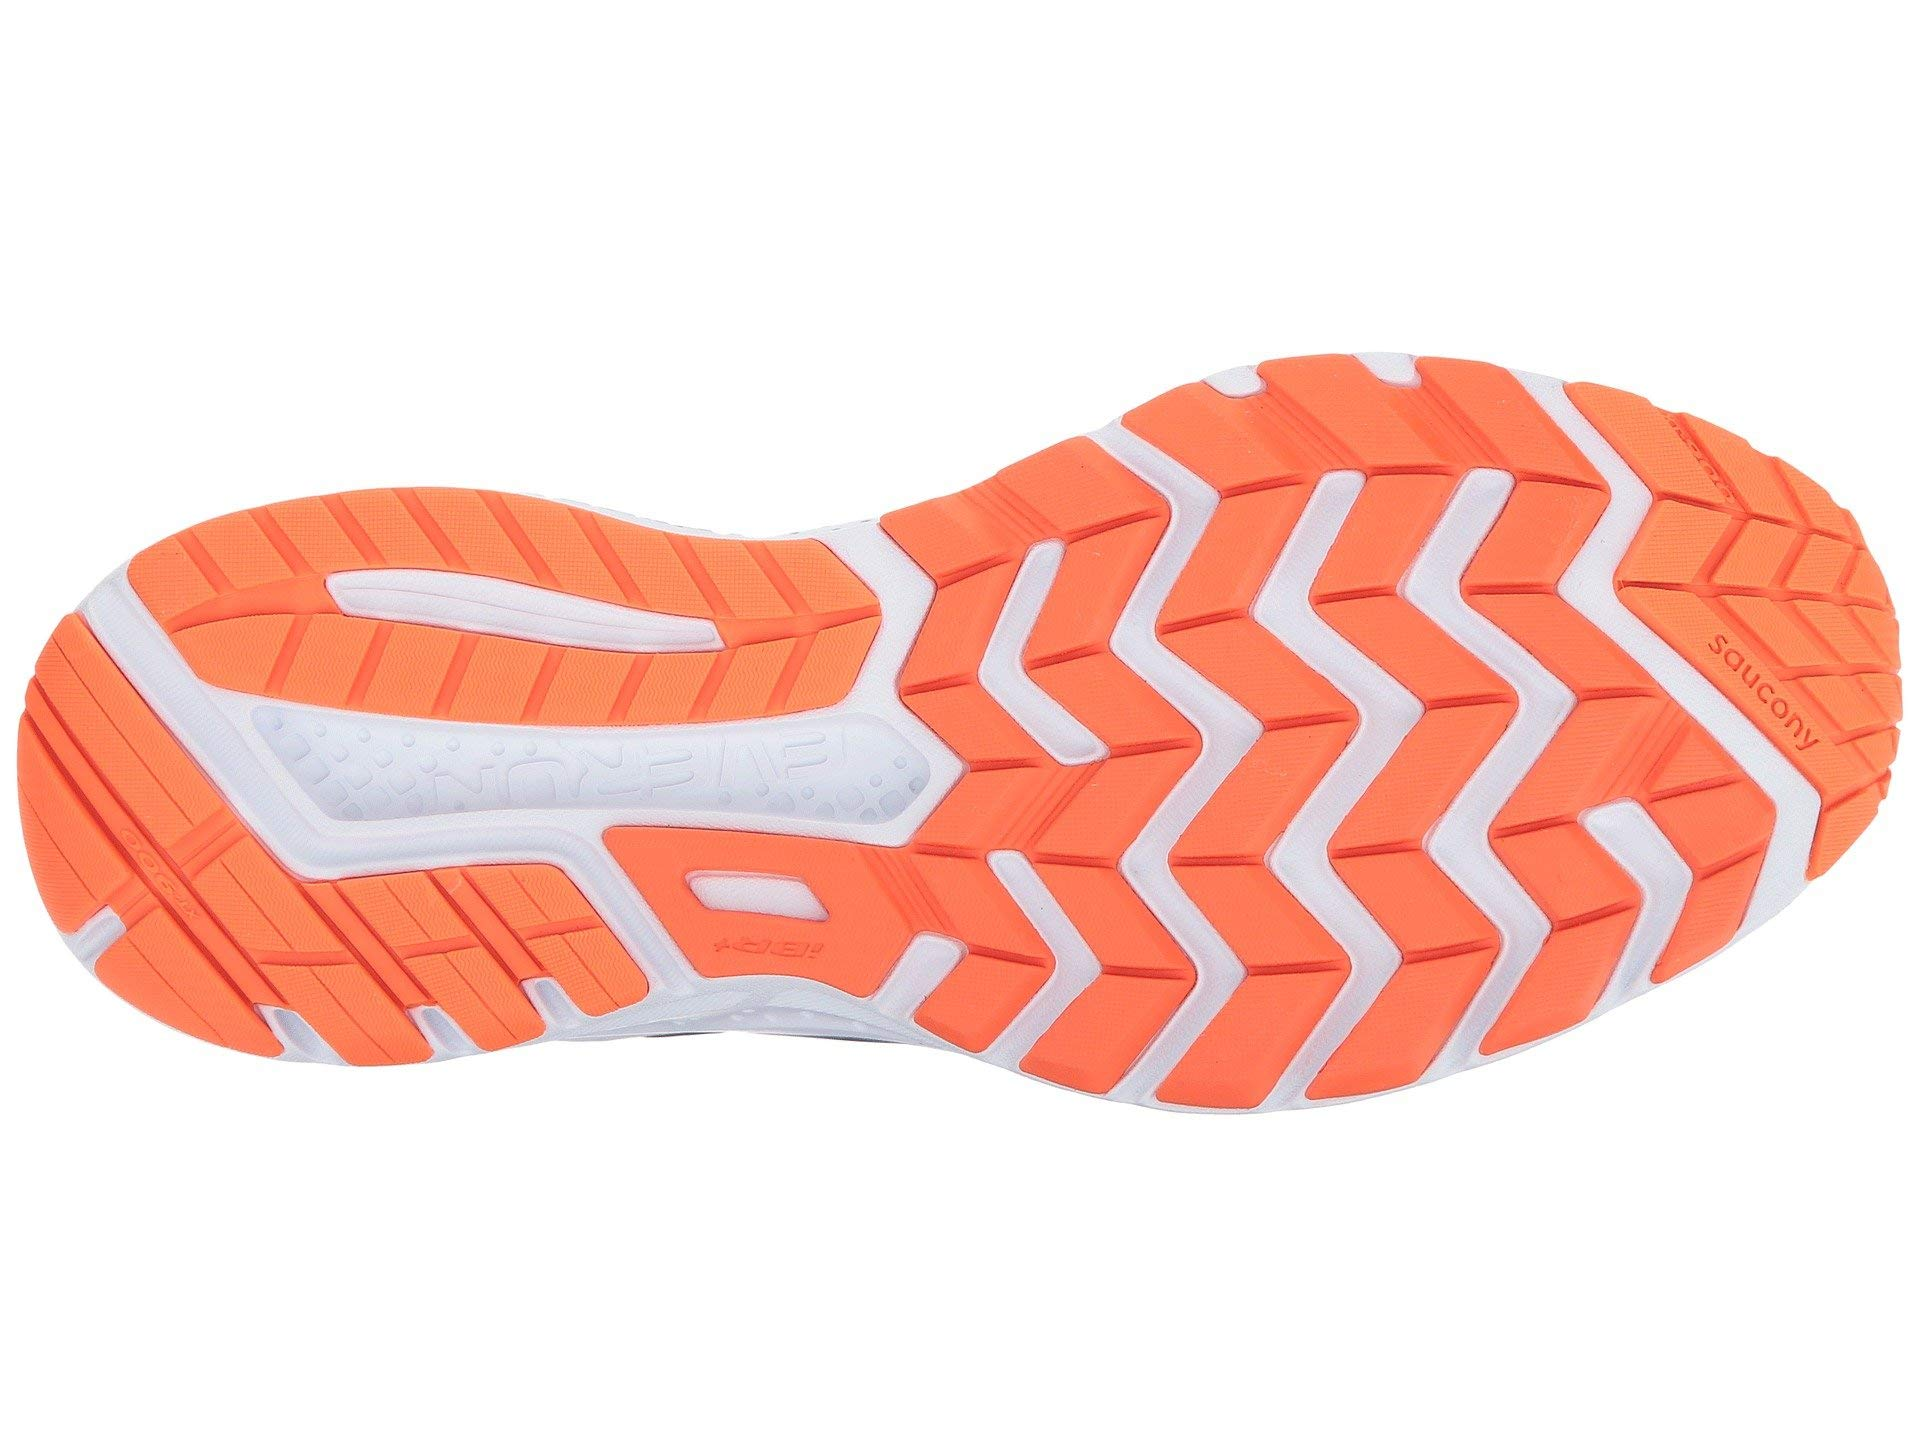chevron: (1027, 401, 1595, 1048)
circle: (1689, 610, 1861, 784)
line: (314, 489, 875, 708), (27, 649, 251, 1026), (1689, 610, 1861, 784)
quad: (1027, 401, 1595, 1048), (314, 489, 875, 708), (27, 649, 251, 1026), (1689, 610, 1861, 784), (661, 852, 871, 988)
text: (1689, 610, 1861, 784), (661, 852, 871, 988)
